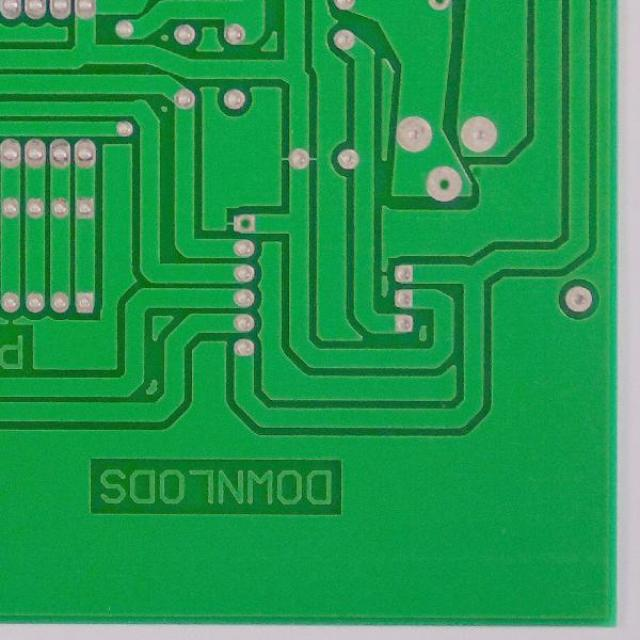Missing_Hole: (423, 163, 466, 204), (232, 211, 257, 236)
